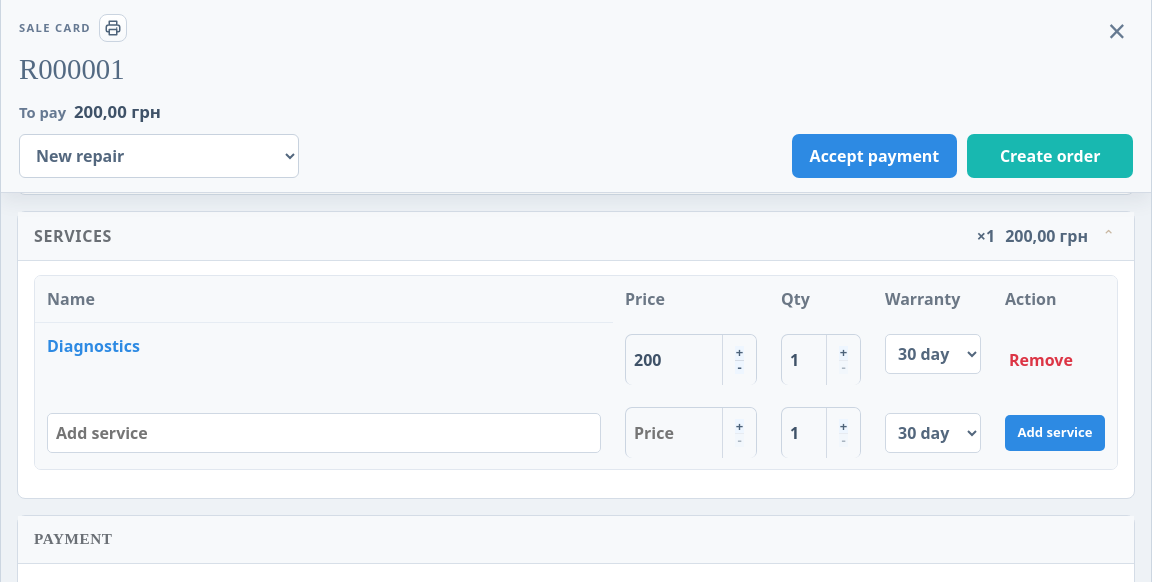
Test: OrderDetailCard product entry › renders wholesale toggles in the price column header when editing an existing service line
Focus the field showing "200": (674, 360) [626,335,722,385]
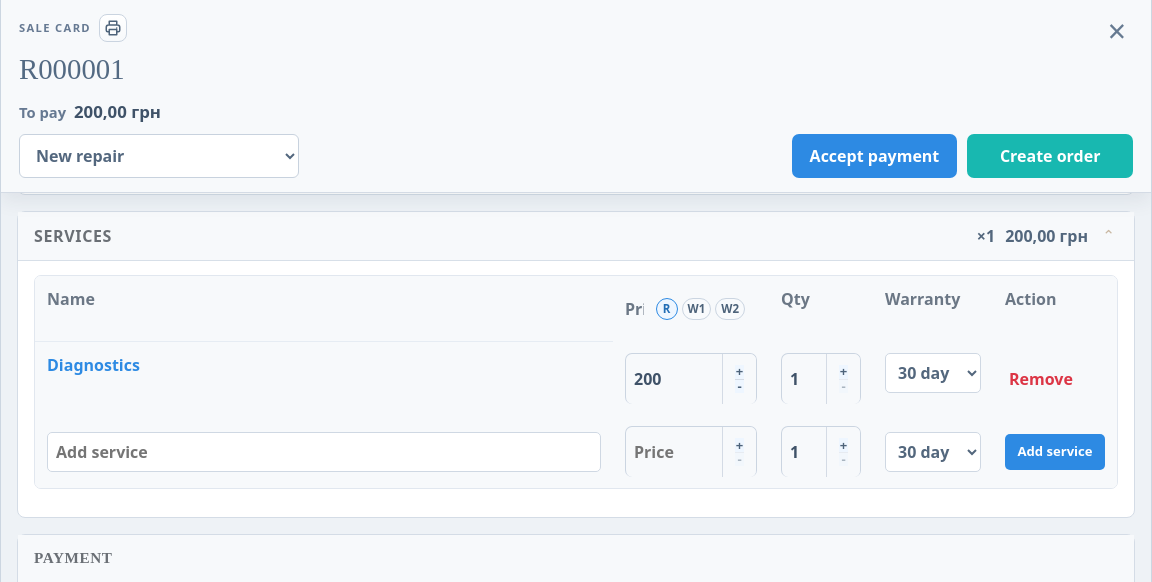
expect the button named "Wholesale 1" is shown: met, box [682,298,711,320]
expect the element showing "R W1 W2" is shown: met, box [644,287,757,331]
Click the button named "Wholesale 2": (730, 309) [715,298,745,320]
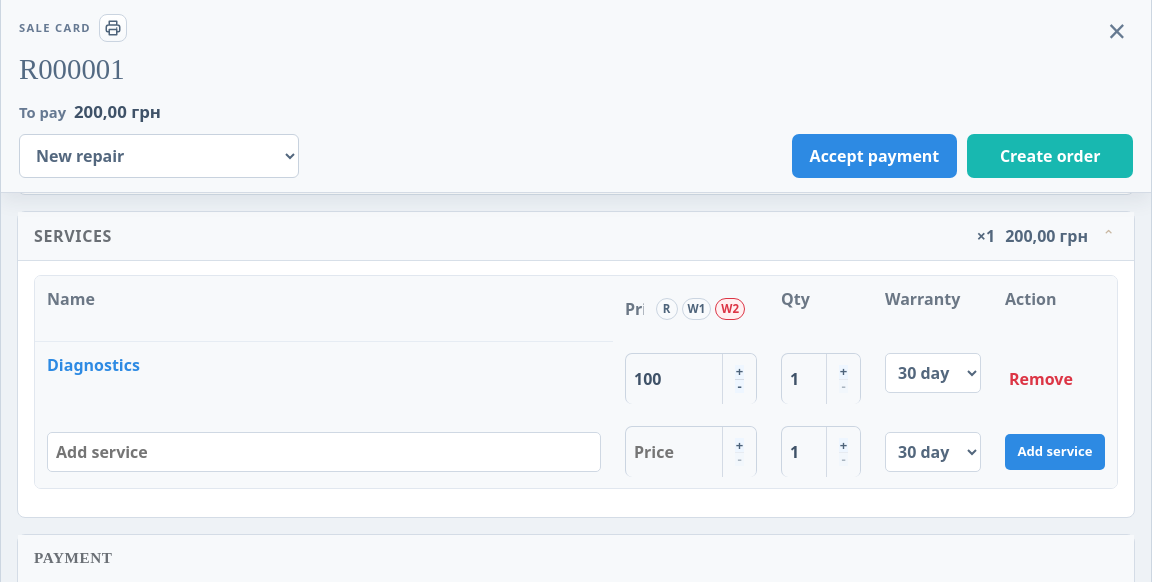
expect the field showing "100" is shown: met, box [626,354,722,404]
